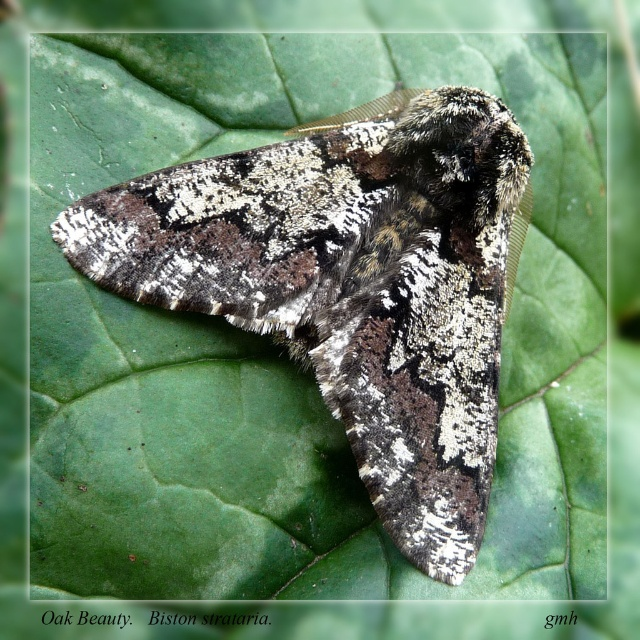Butterfly: (53, 85, 537, 585)
